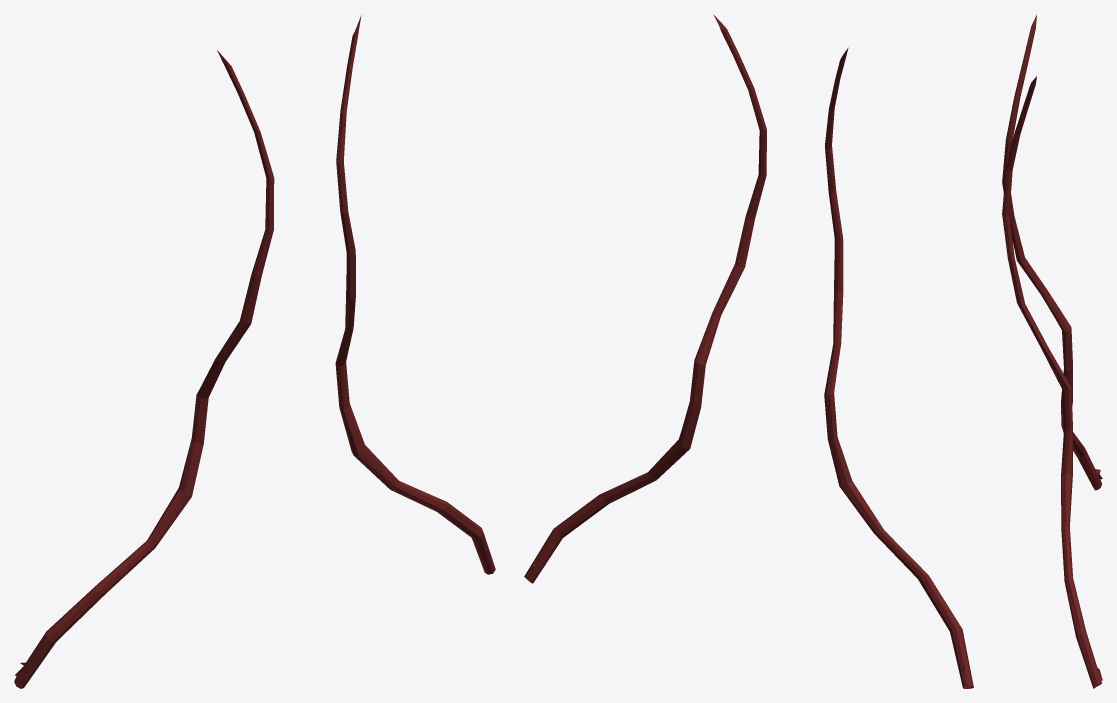
The model's file is Artéria Angular.FBX.
3 renders of one model, left to right at view 1: azimuth 30°, elevation 25°; view 2: azimuth 150°, elevation 25°; view 3: azimuth 270°, elevation 25°, orthographic. The views are drawn at different scales.
Parts seen in each view (by area): view 1: CS_Arterie; view 2: CS_Arterie; view 3: CS_Arterie.
Part boxes in pixels (x1,y1,x2,y2): CS_Arterie: (14, 14, 495, 688); CS_Arterie: (524, 14, 973, 688); CS_Arterie: (1002, 15, 1102, 688).
Bounding box in the file's own units: 214 × 266 × 44.57.
